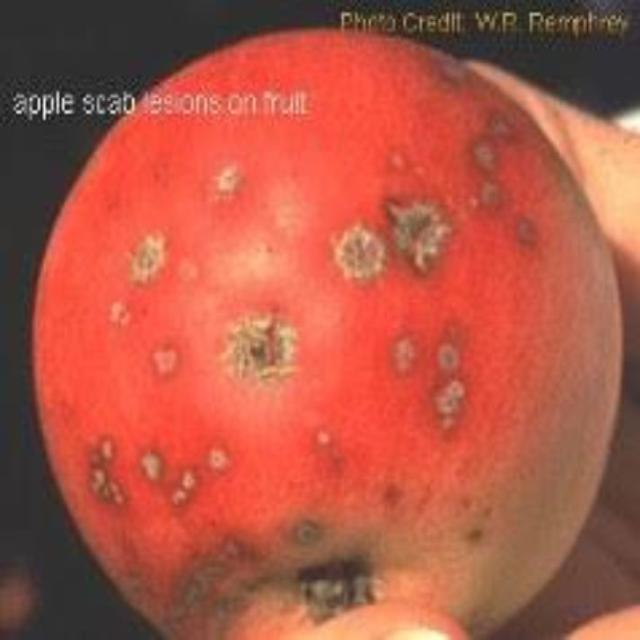Rotten Apple: (17, 34, 592, 633)
